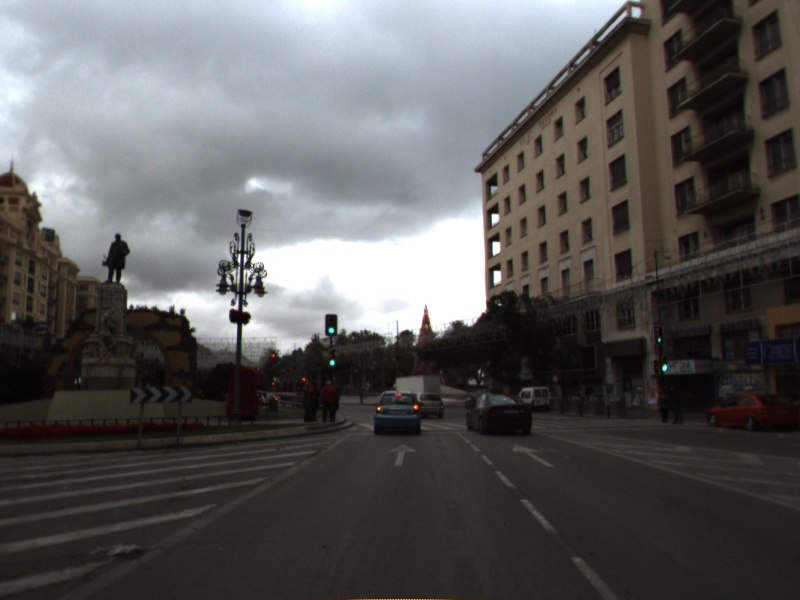STRAIGHT: (510, 442, 556, 469), (388, 442, 419, 468)
